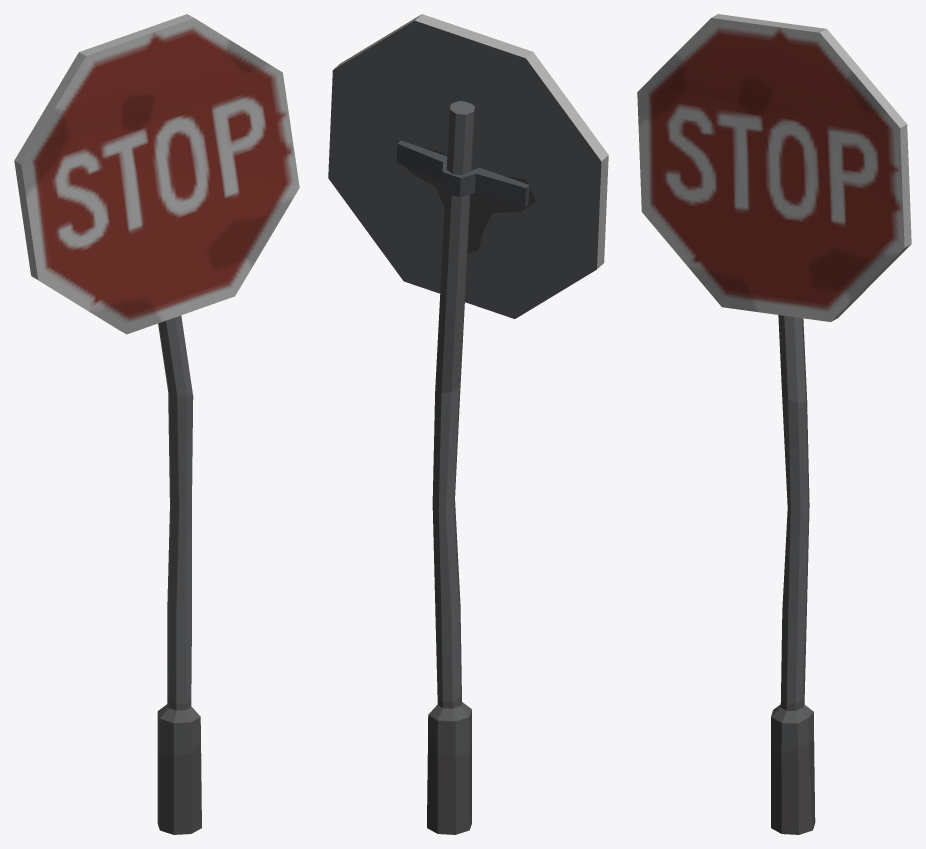
The model's file is SM_Prop_Sign_Stop_01.fbx.
The picture shows the model from 3 angles, left to right: view 1: azimuth 30°, elevation 25°; view 2: azimuth 150°, elevation 25°; view 3: azimuth 330°, elevation 25°; orthographic projection. The views are drawn at different scales.
Visible parts, largest first — view 1: SM_Prop_Sign_Stop_01; view 2: SM_Prop_Sign_Stop_01; view 3: SM_Prop_Sign_Stop_01.
Boxes of the visible parts, left/top/right/bottom form: SM_Prop_Sign_Stop_01: left=14, top=14, right=299, bottom=834; SM_Prop_Sign_Stop_01: left=328, top=14, right=608, bottom=834; SM_Prop_Sign_Stop_01: left=637, top=14, right=911, bottom=834.
Bounding box in the file's own units: 81.3 × 227 × 17.07.
1 material, 1 textured.
